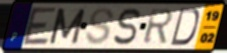D: (168, 7, 201, 47)
E: (21, 6, 59, 47)
M: (47, 7, 88, 45)
R: (141, 8, 175, 46)
S: (84, 7, 116, 47), (112, 7, 142, 46)
